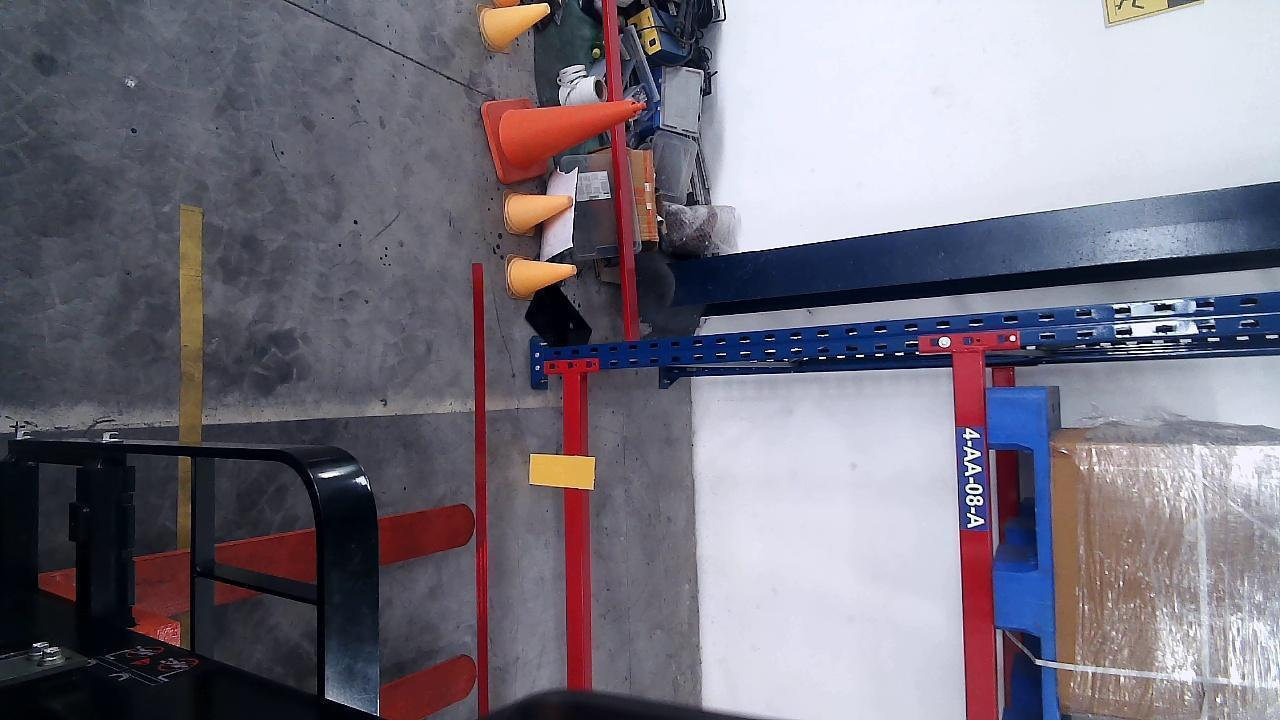red_line: (470, 260, 492, 714)
yellow_line: (182, 204, 204, 444)
